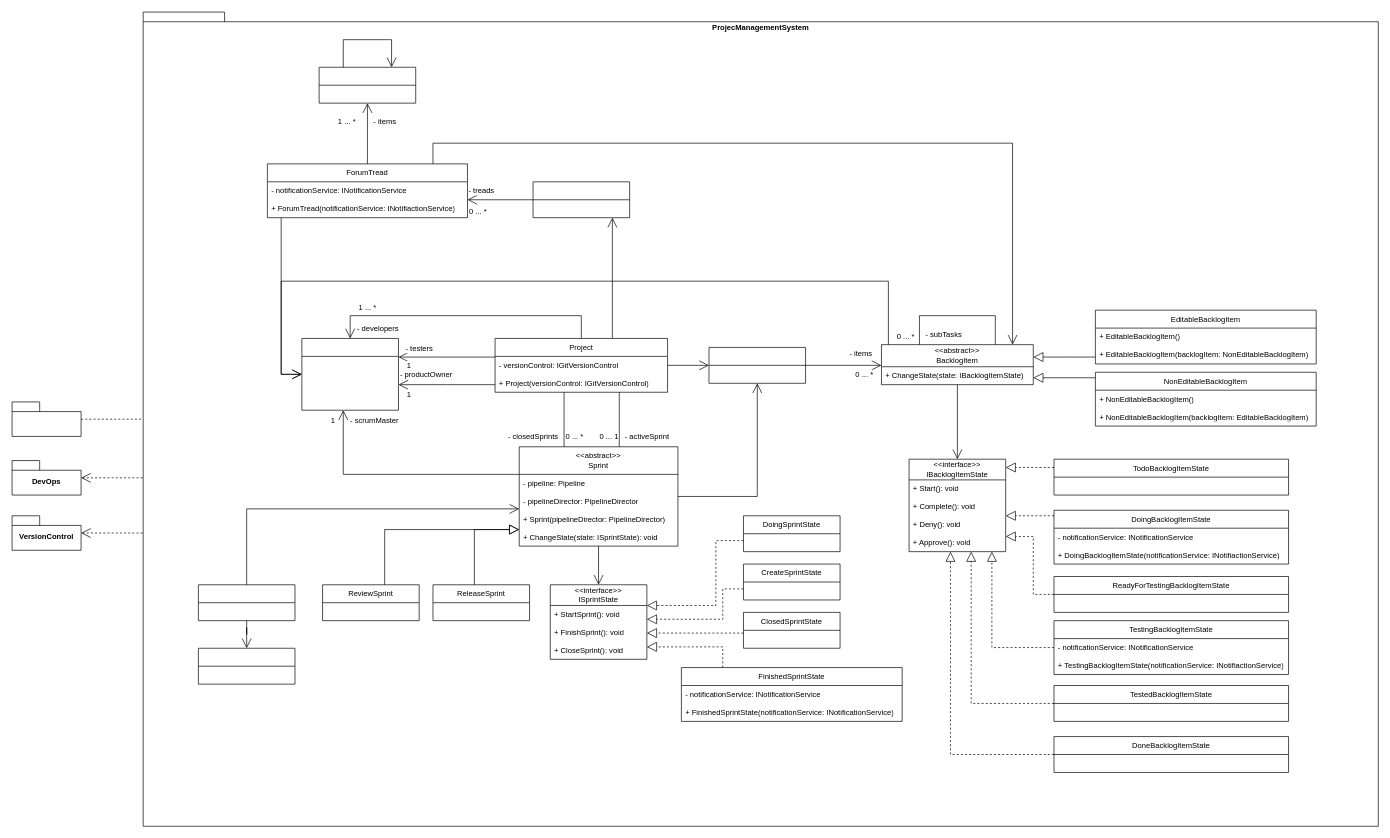
This 1390x838 diagram has some shape labels left out. Each missing label, with the centre of its shape:
Backlog: (x=757, y=365)
Forum: (x=581, y=199)
ForumTreadItem: (x=367, y=85)
Notifications: (x=46, y=418)
Report: (x=246, y=602)
ReportTemplate: (x=246, y=666)
User: (x=349, y=374)
